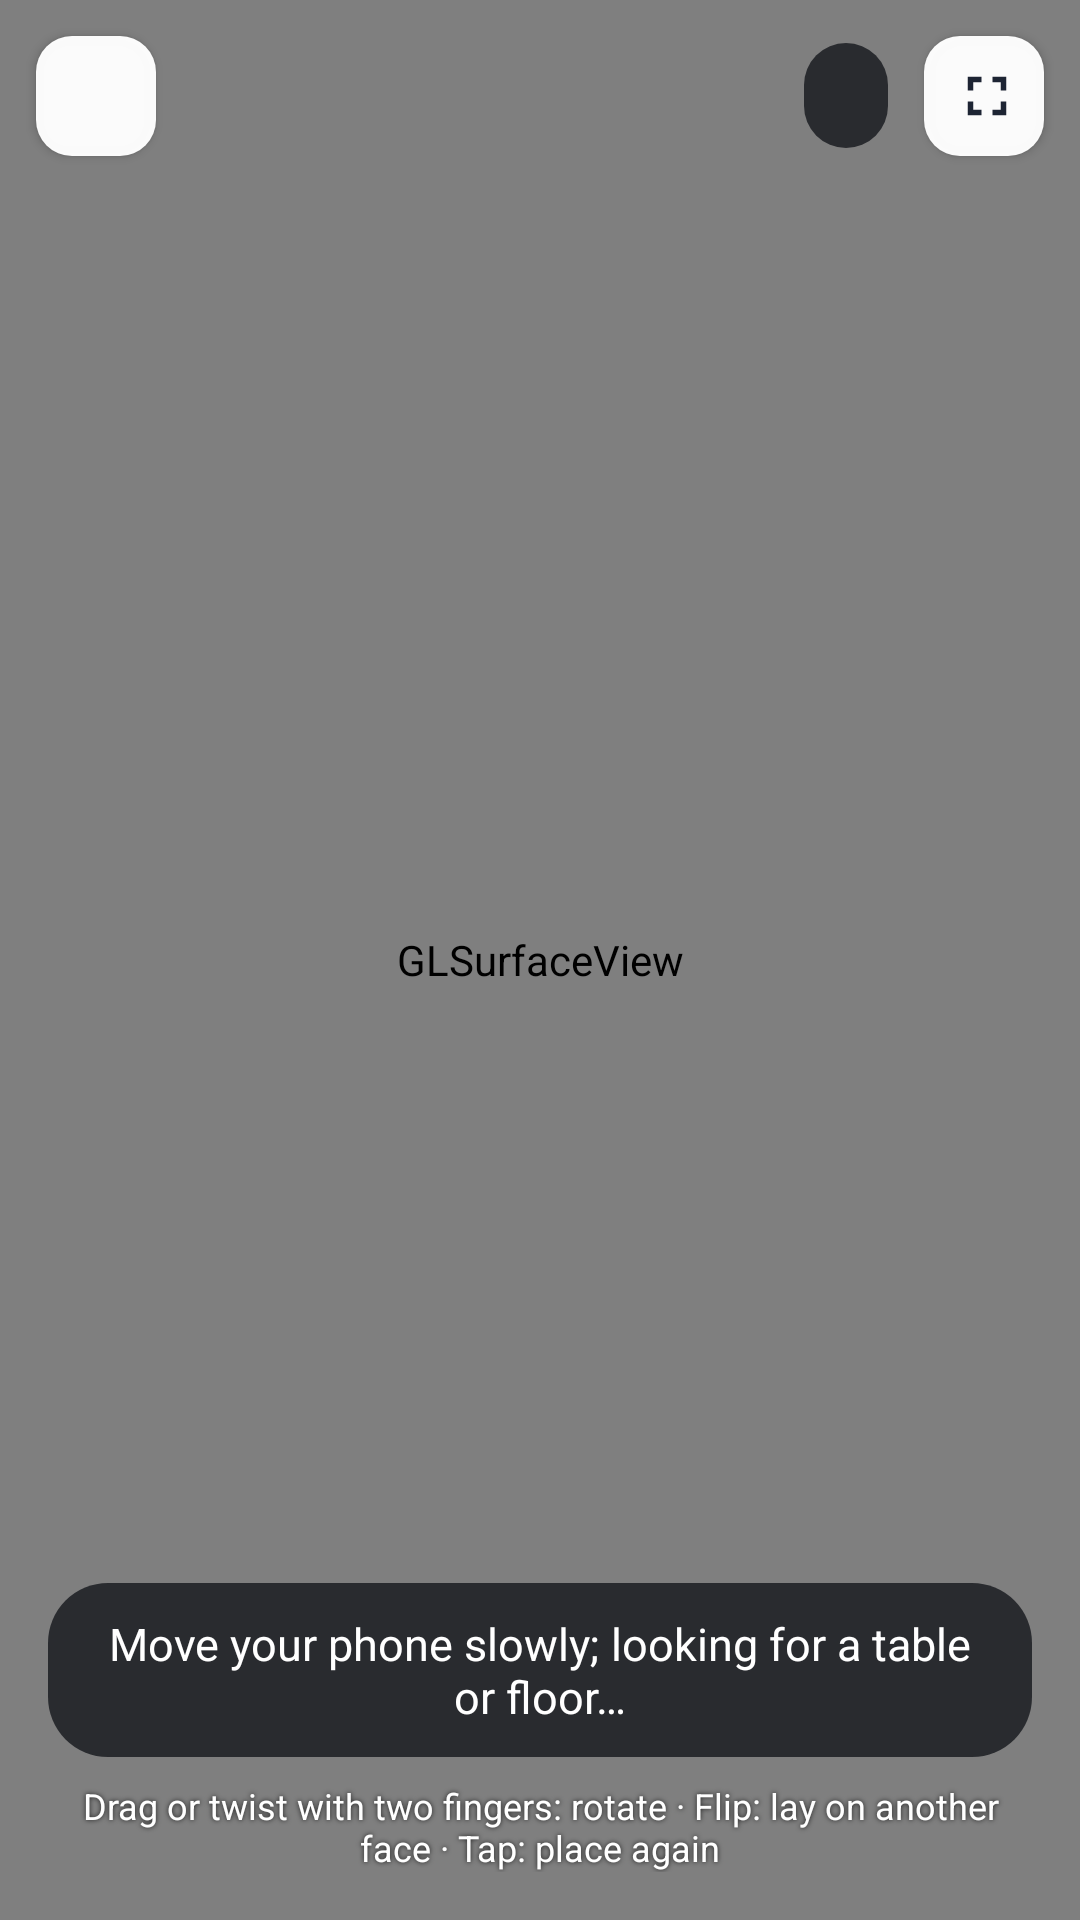

Screen size 1080w x 1920h. Icon name, then its center in pixels as (x,y):
Back to real size: (984,96)
